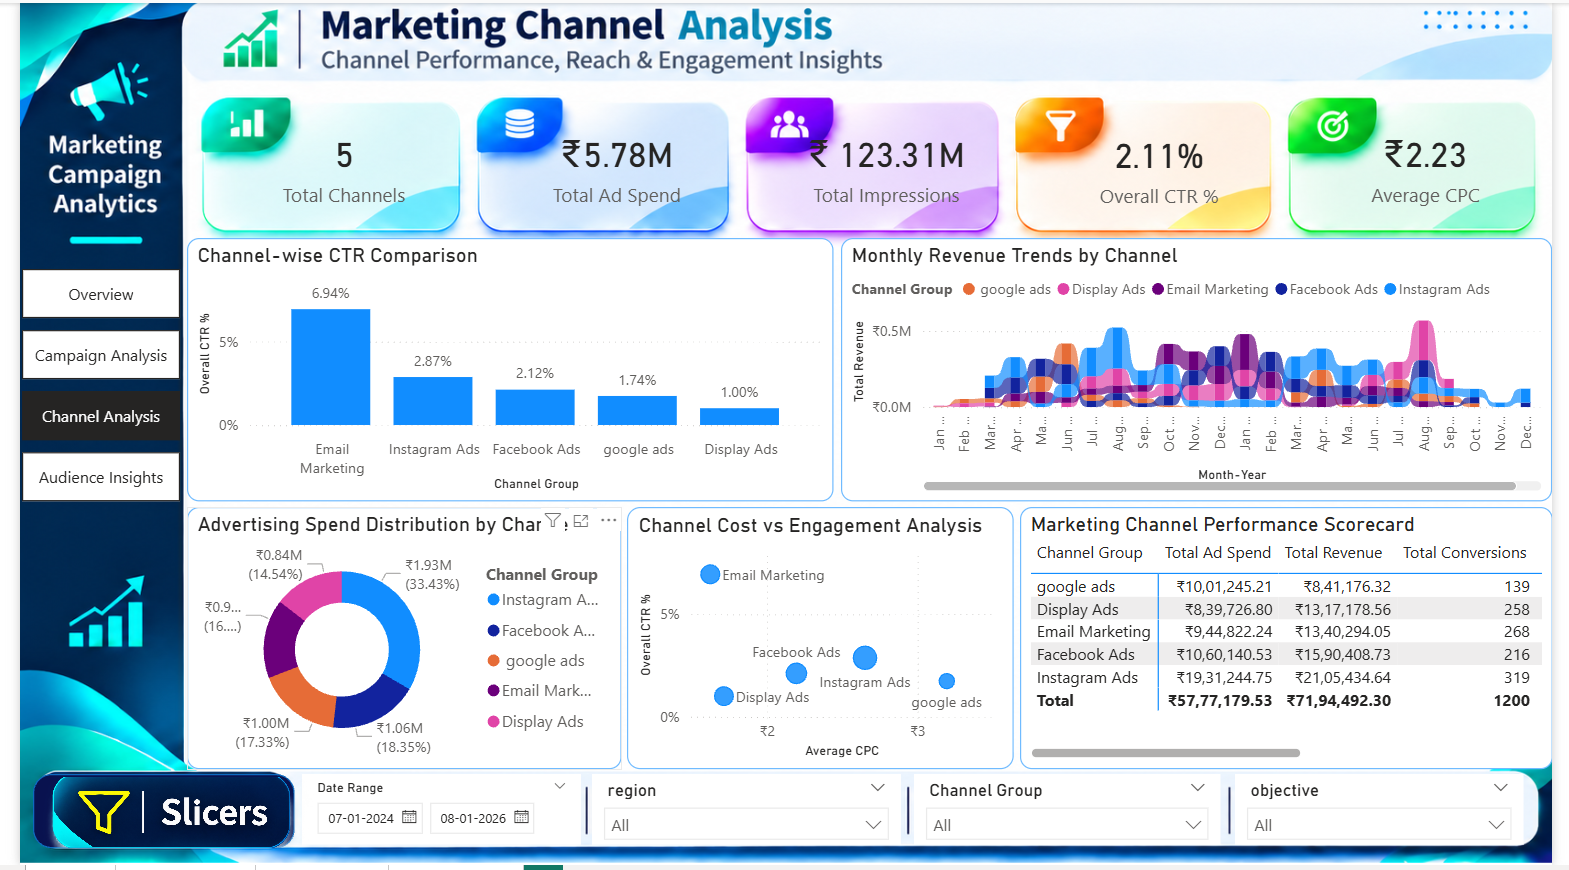

Layout of this report page (visuals, bound fields, positions):
{"tool":"powerbi","page":{"name":"Channel Analysis","canvas":[1280,720],"ordinal":2},"visuals":[{"type":"card","fields":{"Values":["_Measures.Total Channels"]},"box":[197.3,89.5,147.1,92.3],"z":0},{"type":"card","fields":{"Values":["_Measures.Total Ad Spend"]},"box":[415.7,89.5,165.4,92.3],"z":1000},{"type":"card","fields":{"Values":["_Measures.Total Impressions"]},"box":[640.5,89.5,166.3,92.3],"z":2000},{"type":"card","fields":{"Values":["_Measures.Overall CTR %"]},"box":[867,90.4,169,92.3],"z":3000},{"type":"card","fields":{"Values":["_Measures.Average CPC"]},"box":[1100.9,89.5,146.2,92.3],"z":4000},{"type":"clusteredColumnChart","title":"Channel-wise CTR Comparison","fields":{"Y":["_Measures.Overall CTR %"],"Category":["marketing_campaigns marketing_channels.Channel Group"]},"box":[139.8,196.4,540,220.2],"z":5000},{"type":"donutChart","title":"Advertising Spend Distribution by Channel","fields":{"Y":["_Measures.Total Ad Spend"],"Category":["marketing_campaigns marketing_channels.Channel Group"]},"box":[139.8,421.2,362.7,219.3],"z":6000},{"type":"scatterChart","title":"Channel Cost vs Engagement Analysis","fields":{"X":["_Measures.Average CPC"],"Y":["_Measures.Overall CTR %"],"Size":["_Measures.Total Revenue"],"Category":["marketing_campaigns marketing_channels.Channel Group"]},"box":[507.1,421.2,322.5,219.3],"z":7000},{"type":"ribbonChart","title":"Monthly Revenue Trends by Channel","fields":{"Category":["DimDate.Month-Year"],"Y":["_Measures.Total Revenue"],"Series":["marketing_campaigns marketing_channels.Channel Group"]},"box":[686.1,196.4,593.9,220.2],"z":8000},{"type":"pivotTable","title":"\tMarketing Channel Performance Scorecard","fields":{"Values":["_Measures.Total Ad Spend","_Measures.Total Revenue","_Measures.Total Conversions","_Measures.Overall CTR %","_Measures.Average CPC","_Measures.Ad-Spend ROI %"],"Rows":["marketing_campaigns marketing_channels.Channel Group"]},"box":[835.1,421.2,444.9,219.3],"z":9000},{"type":"pageNavigator","box":[1.8,222,132.5,195.5],"z":10000},{"type":"slicer","fields":{"Values":["marketing_campaigns campaigns.objective"]},"box":[1014.7,643.8,241.1,58.6],"z":11000},{"type":"slicer","fields":{"Values":["marketing_campaigns marketing_channels.Channel Group"]},"box":[746.8,643.8,256.2,58.6],"z":12000},{"type":"slicer","fields":{"Values":["marketing_campaigns campaigns.region"]},"box":[478,643.8,257.9,58.6],"z":13000},{"type":"slicer","fields":{"Values":["DimDate.Date"]},"box":[235.3,643.8,232.7,58.6],"z":14000},{"type":"shape","box":[10.9,643.8,218.5,62],"z":15000},{"type":"image","box":[0,646.3,252.8,59.4],"z":16000}]}

Visuals, with their boxes in screenshot pixels (x1, y1, x2, y2), scaled from the page's 1280x720 canvas onto the 1569x870 screenshot:
card - _Measures.Total Channels: l=242, t=108, r=422, b=220
card - _Measures.Total Ad Spend: l=510, t=108, r=712, b=220
card - _Measures.Total Impressions: l=785, t=108, r=989, b=220
card - _Measures.Overall CTR %: l=1063, t=109, r=1270, b=221
card - _Measures.Average CPC: l=1349, t=108, r=1529, b=220
"Channel-wise CTR Comparison" clusteredColumnChart: l=171, t=237, r=833, b=503
"Advertising Spend Distribution by Channel" donutChart: l=171, t=509, r=616, b=774
"Channel Cost vs Engagement Analysis" scatterChart: l=622, t=509, r=1017, b=774
"Monthly Revenue Trends by Channel" ribbonChart: l=841, t=237, r=1568, b=503
"	Marketing Channel Performance Scorecard" pivotTable: l=1024, t=509, r=1568, b=774
pageNavigator: l=2, t=268, r=165, b=504
slicer - marketing_campaigns campaigns.objective: l=1244, t=778, r=1539, b=849
slicer - marketing_campaigns marketing_channels.Channel Group: l=915, t=778, r=1229, b=849
slicer - marketing_campaigns campaigns.region: l=586, t=778, r=902, b=849
slicer - DimDate.Date: l=288, t=778, r=574, b=849
shape: l=13, t=778, r=281, b=853
image: l=0, t=781, r=310, b=853
